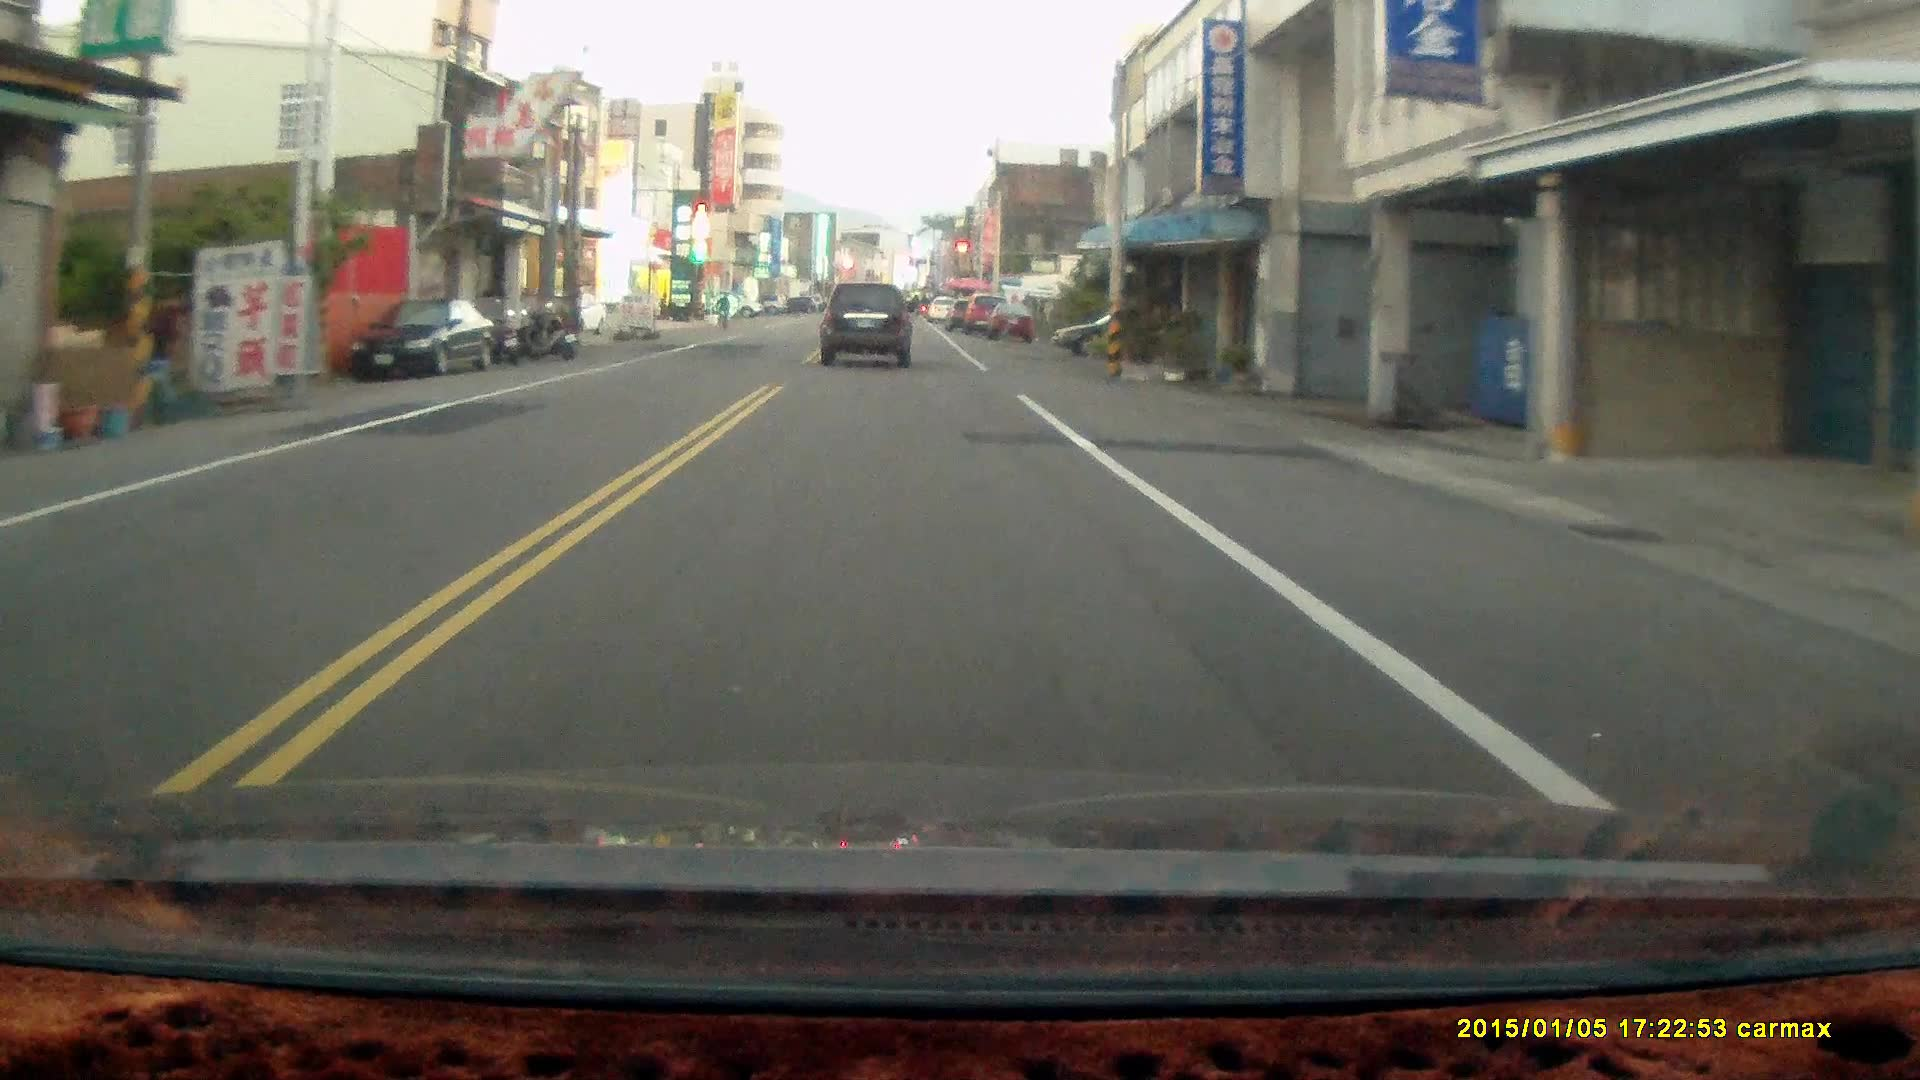pedestrian: (146, 292, 184, 411)
rider: (709, 290, 731, 329)
vehicle: (347, 296, 500, 385), (820, 283, 917, 371)
